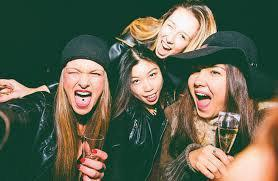Drunk: (189, 62, 228, 118), (66, 60, 103, 115), (157, 9, 196, 57), (131, 60, 164, 105)
